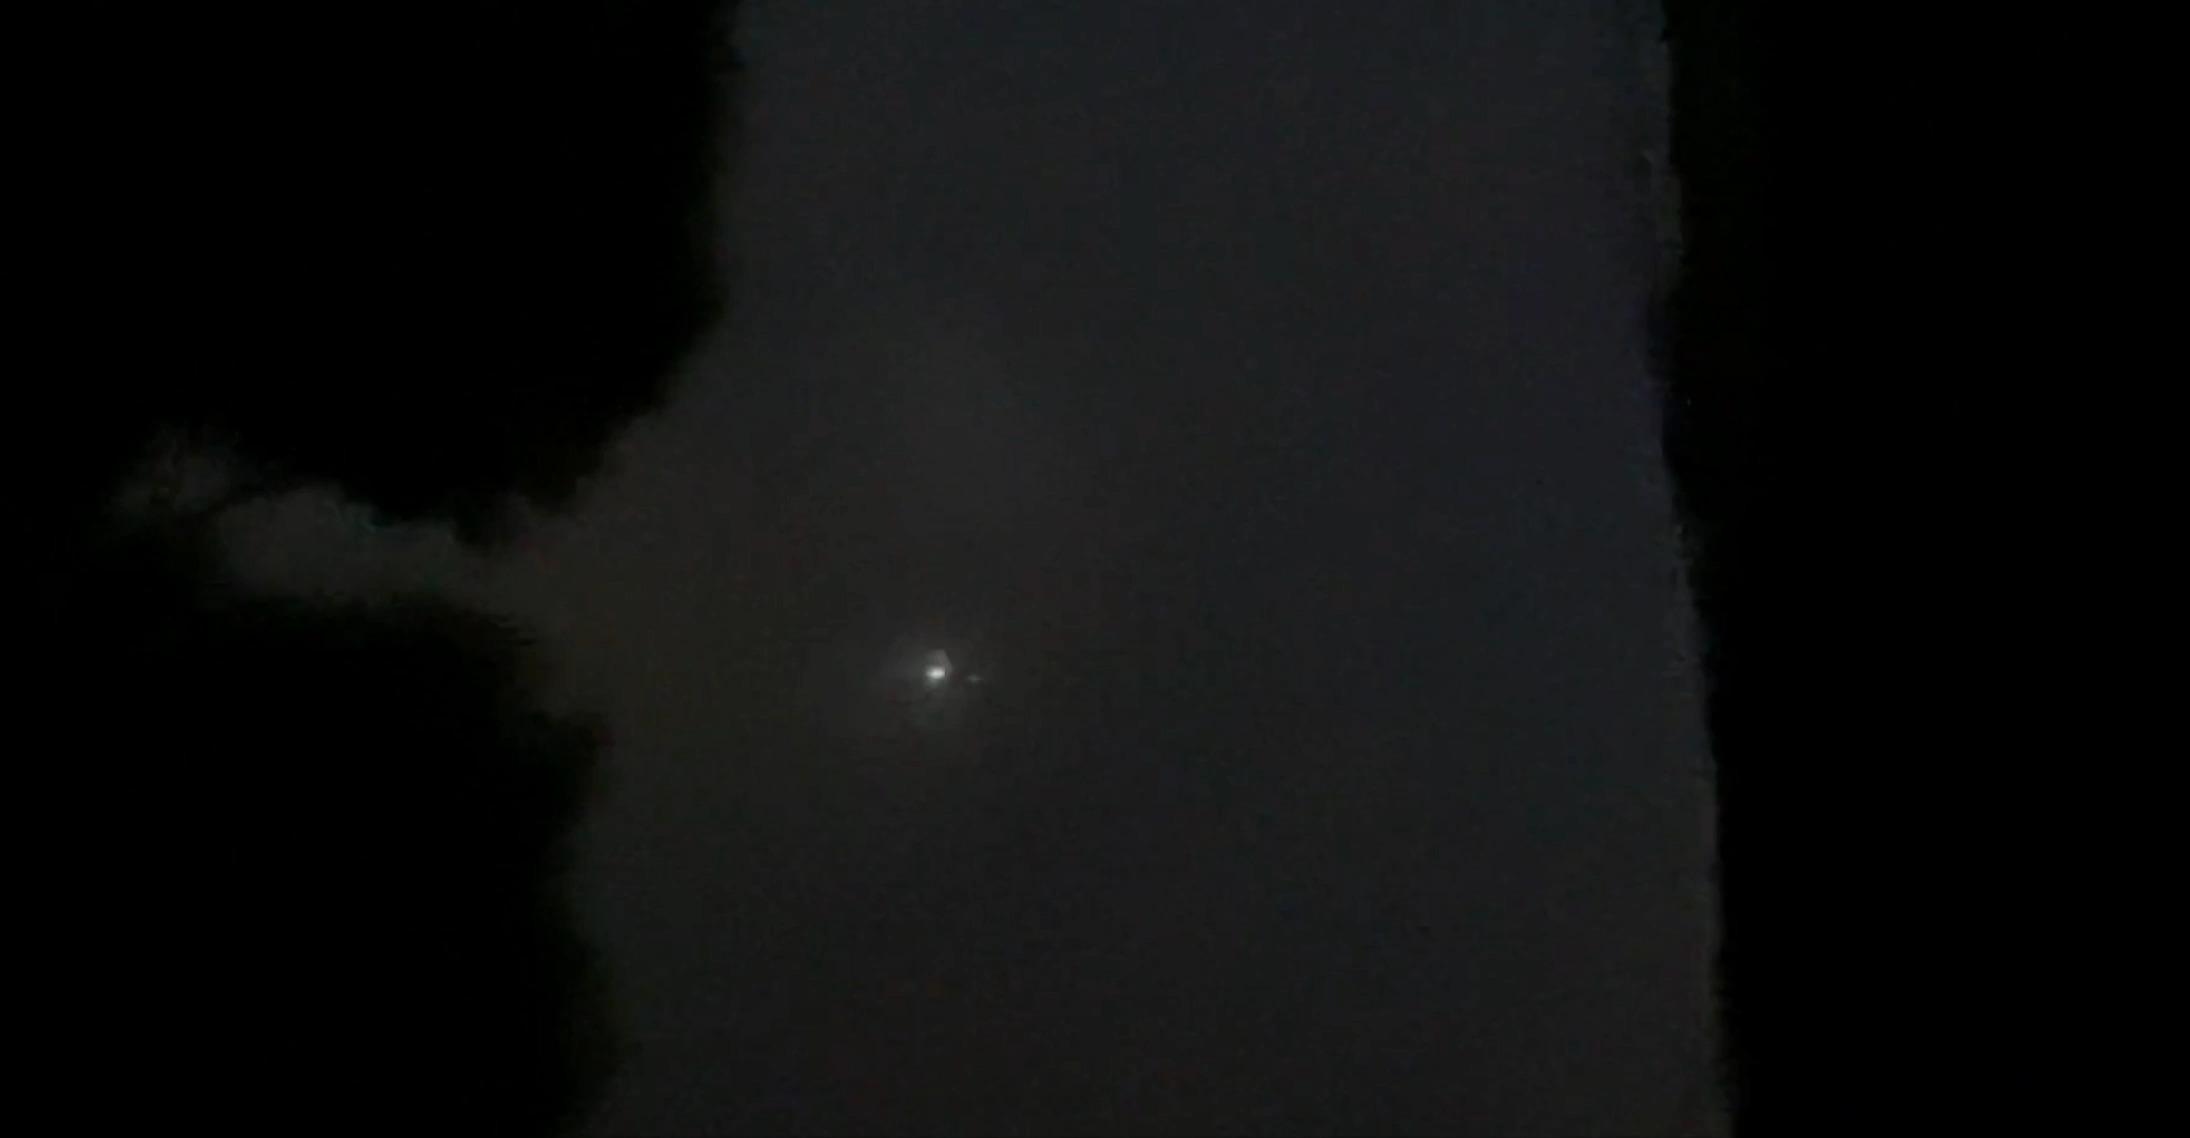Plane: (879, 591, 1001, 743)
